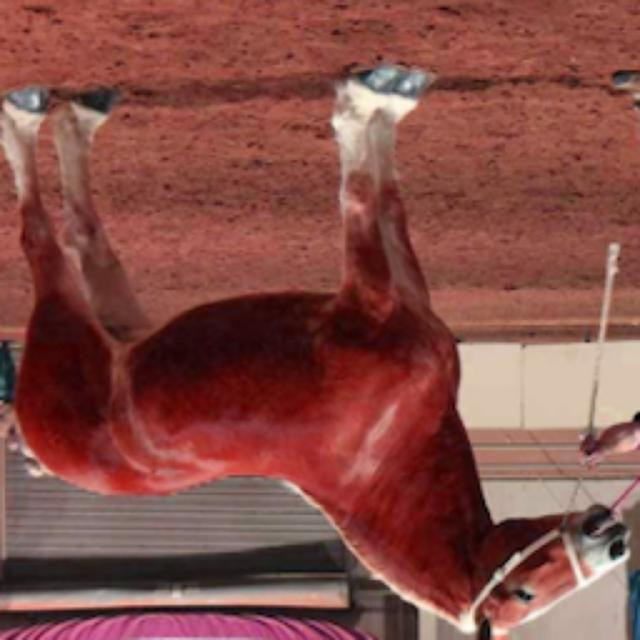Horse: (2, 60, 640, 640)
